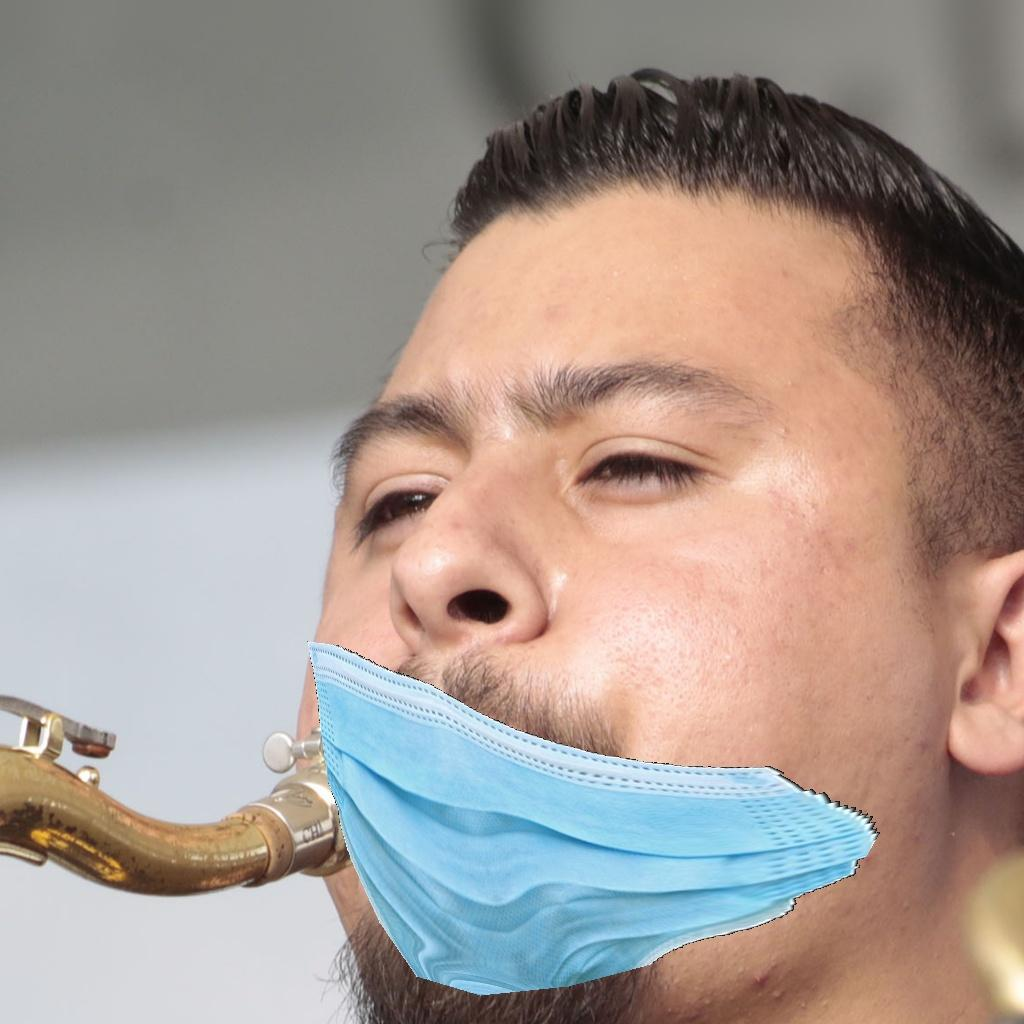Máscara Incorreta: (264, 228, 918, 1001)
